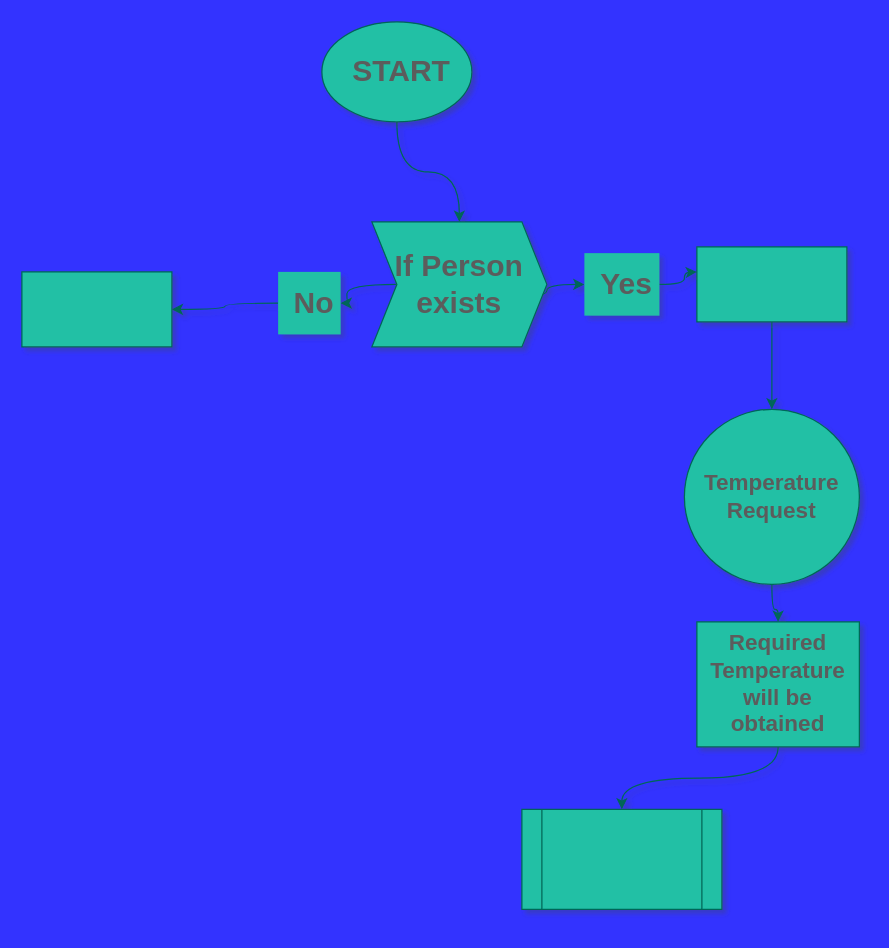
This 889x948 diagram has some shape labels left out. The shapes that lost their labels are listed below. From the top down, each one's box as (x1, y1, x2, y2) in pixels, then its label:
(696, 246, 847, 322): Heater on
(21, 271, 172, 347): Heater off
(521, 808, 722, 909): Temperature will be displayed
